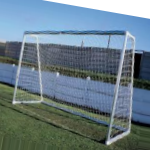goals: (12, 28, 134, 144)
